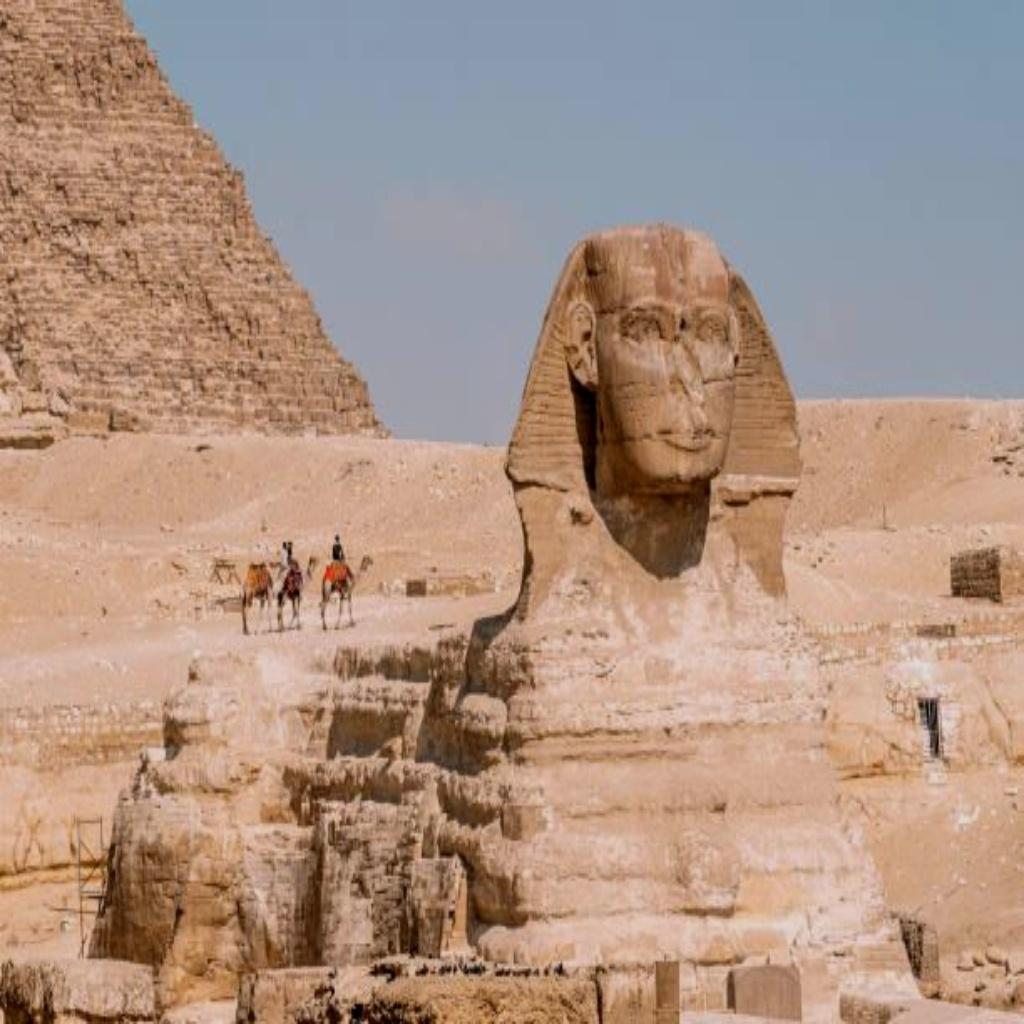Sphinx: (430, 218, 894, 968)
